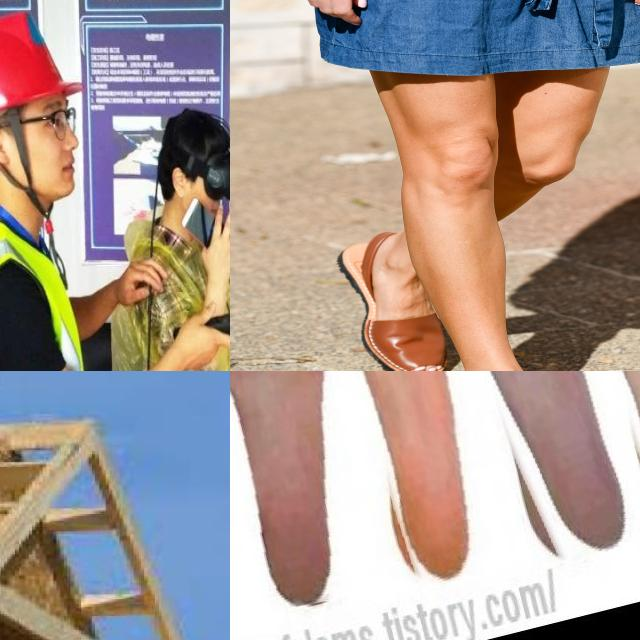Barefoots: (410, 371, 640, 543), (309, 371, 468, 582), (230, 371, 328, 613), (545, 371, 640, 537)
No_Ear-Protection: (172, 167, 186, 197), (0, 130, 10, 164)
Sandals: (333, 229, 449, 371)
face_nomask: (27, 128, 78, 196)
head_helmet: (0, 12, 82, 112)
